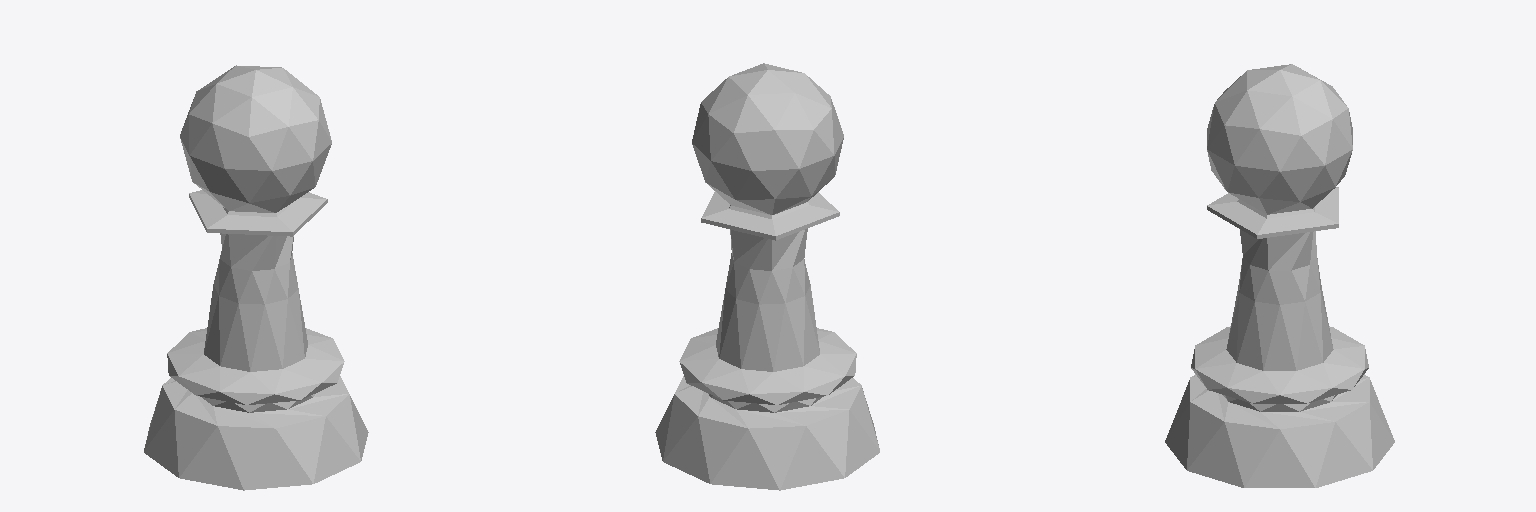
The model's file is Pawn.obj.
3 renders of one model, left to right at view 1: azimuth 30°, elevation 25°; view 2: azimuth 150°, elevation 25°; view 3: azimuth 270°, elevation 25°, orthographic.
Visible parts, largest first — view 1: Icosphere; view 2: Icosphere; view 3: Icosphere.
Boxes of the visible parts, box(x1,y1,x2,y2) form: Icosphere: box(144, 65, 368, 490); Icosphere: box(655, 63, 879, 490); Icosphere: box(1165, 64, 1394, 487).
Size of the model in its own units: 0.7989 by 1.5 by 0.84.